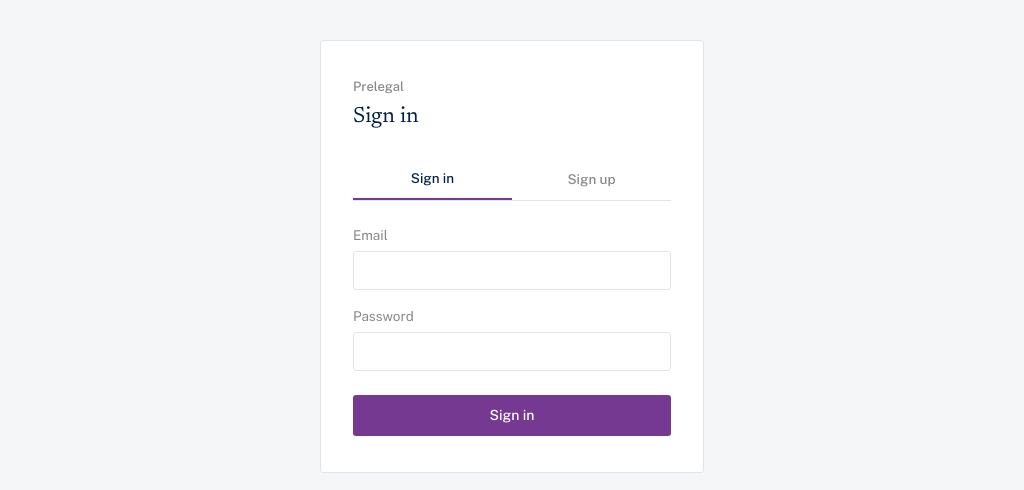
Test case: AppGate › reveals the app once sign in succeeds
Expected: the heading "Sign in" is shown, [353, 106, 419, 128]
In the field labelled "Email": (512, 270) [353, 251, 671, 290], type "a@example.com"
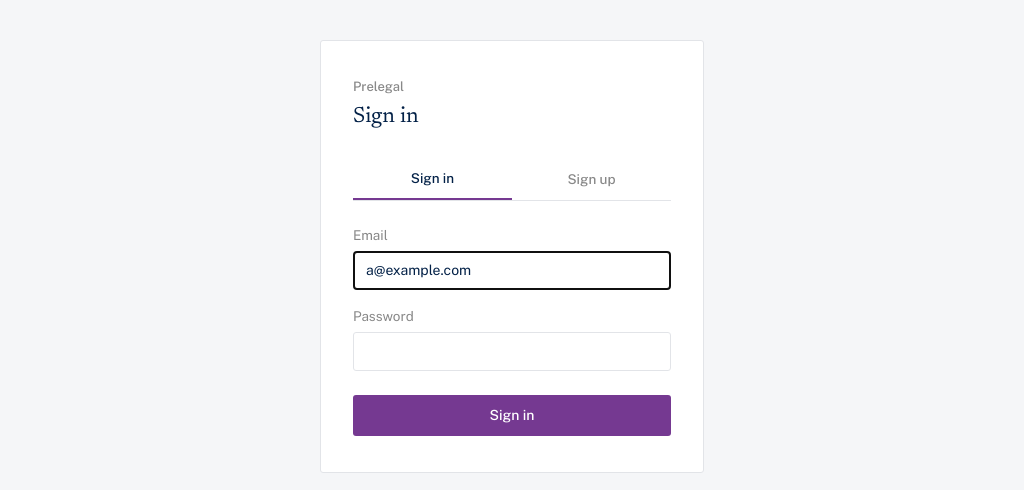
In the password field labelled "Password": (512, 352) [353, 332, 671, 371], type "hunter2hunter2"
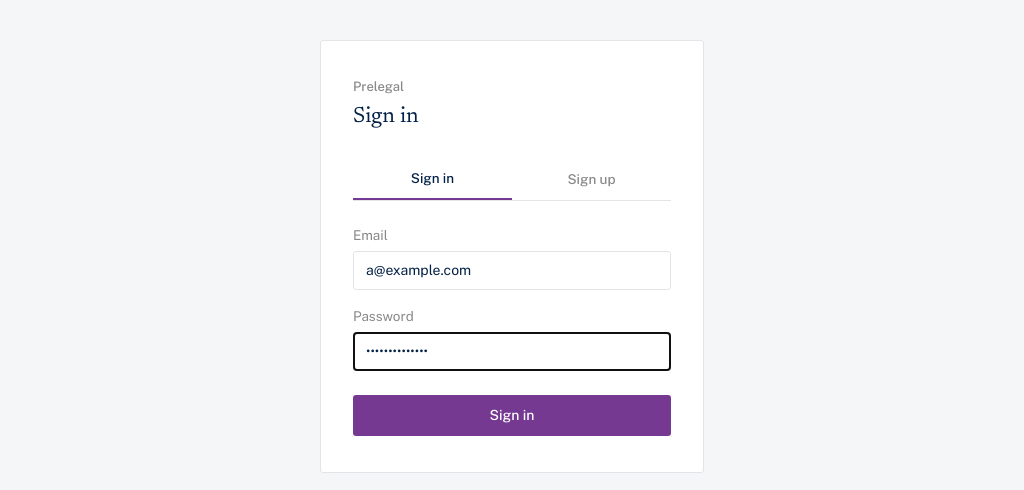
Click the button "Sign in": click(512, 416) [353, 395, 671, 436]
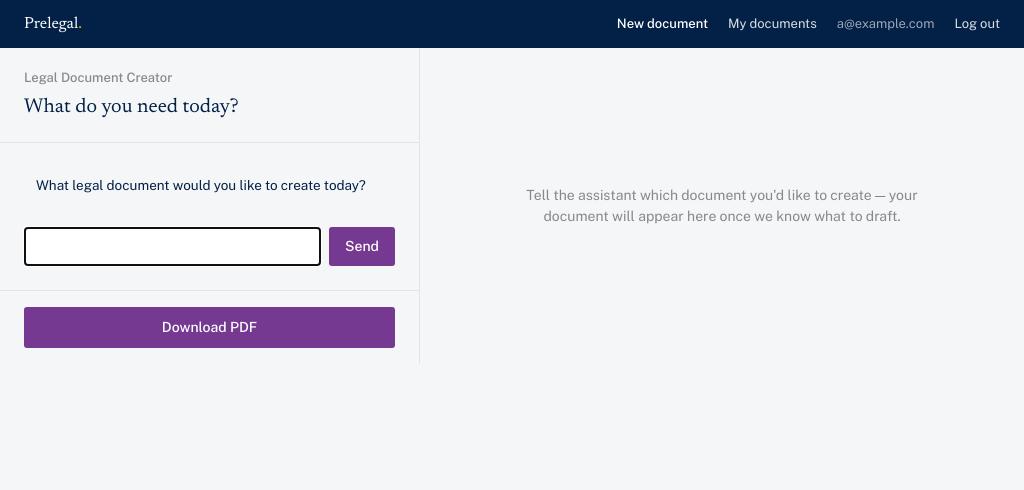
Result: the heading "What do you need today?" is shown at [24, 96, 238, 116]
